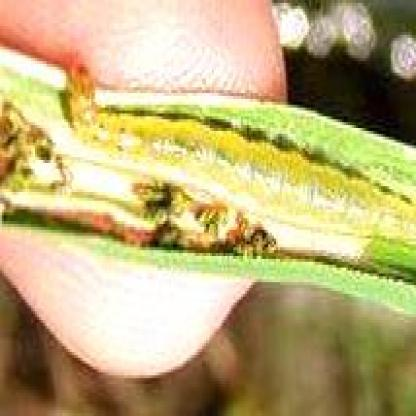leaf-folder: (46, 52, 416, 250)
